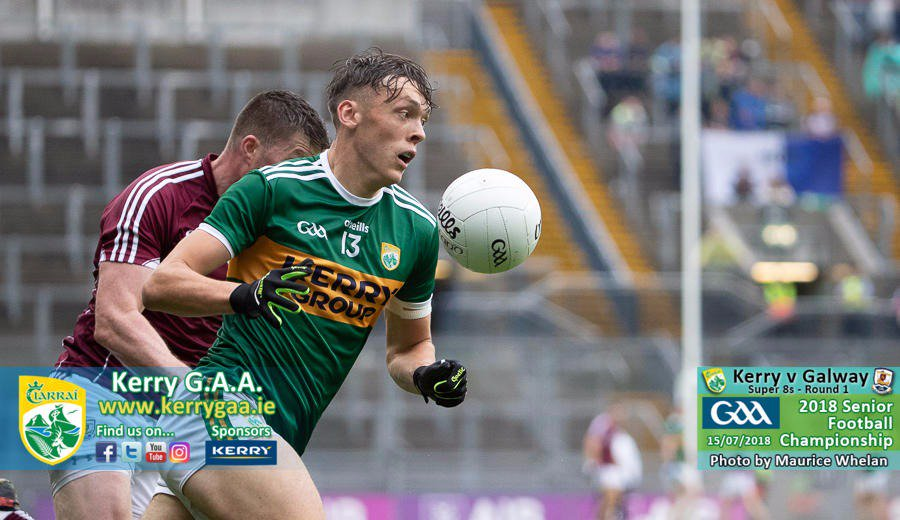ball: (431, 162, 573, 296)
player: (263, 35, 468, 503), (67, 54, 321, 429)
